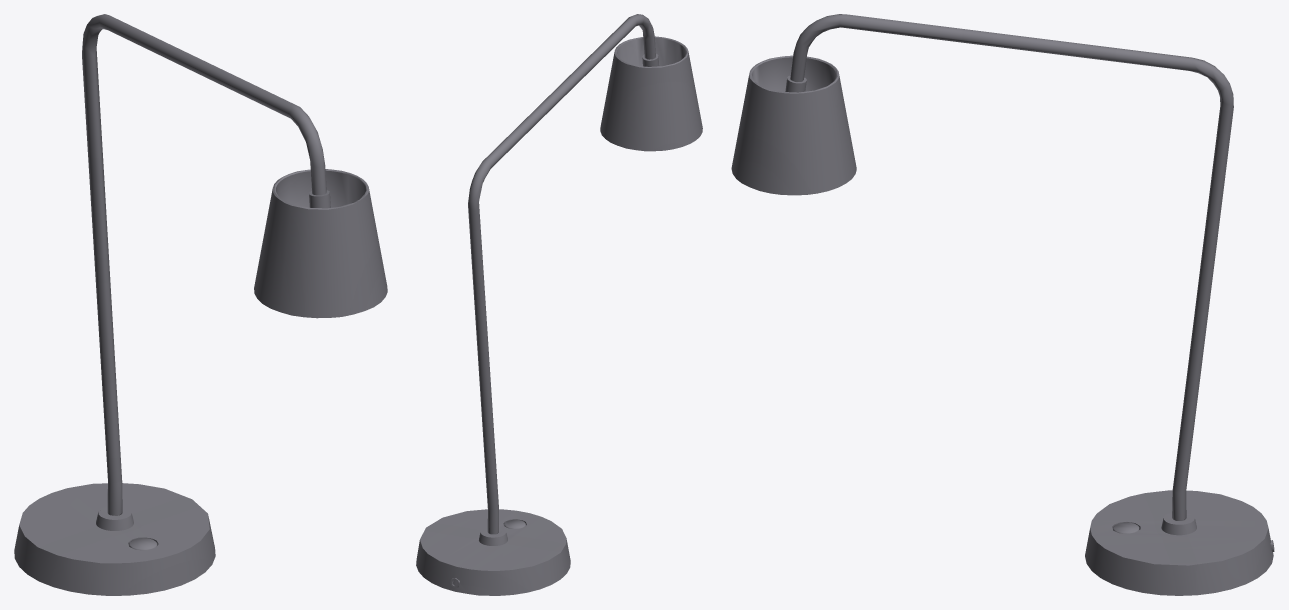
Rendered from SM_Lamp_6.fbx.
The picture shows the model from 3 angles, left to right: view 1: azimuth 30°, elevation 25°; view 2: azimuth 150°, elevation 25°; view 3: azimuth 270°, elevation 25°; orthographic projection. The views are drawn at different scales.
Visible parts, largest first — view 1: SM_Lamp_6; view 2: SM_Lamp_6; view 3: SM_Lamp_6.
Boxes of the visible parts, x1,y1,x2,y2 form: SM_Lamp_6: (14,14,387,595); SM_Lamp_6: (416,14,702,595); SM_Lamp_6: (731,14,1274,595).
Bounding box in the file's own units: 0.113 × 0.3578 × 0.3251.
Materials: 2 (1 with a texture image).
